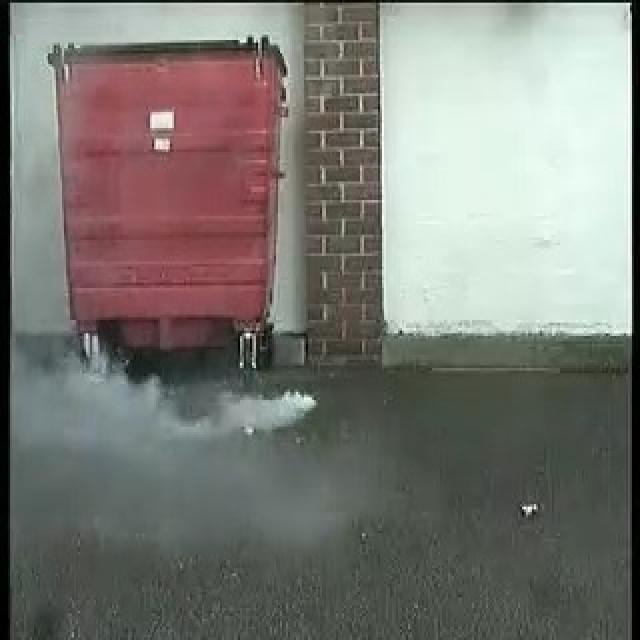Smoke: (76, 353, 316, 439)
